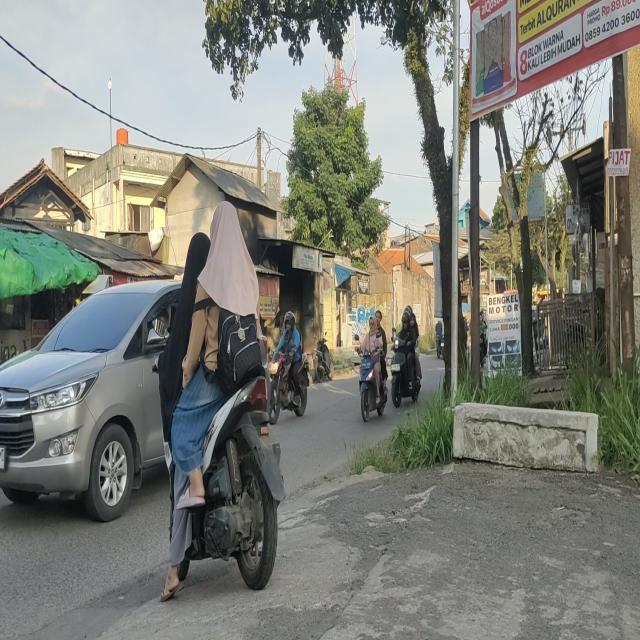helmet: (283, 310, 295, 334), (399, 313, 409, 332)
no-helmet: (177, 227, 210, 285), (212, 198, 241, 257), (367, 316, 377, 334), (374, 311, 383, 328), (410, 314, 416, 326)
